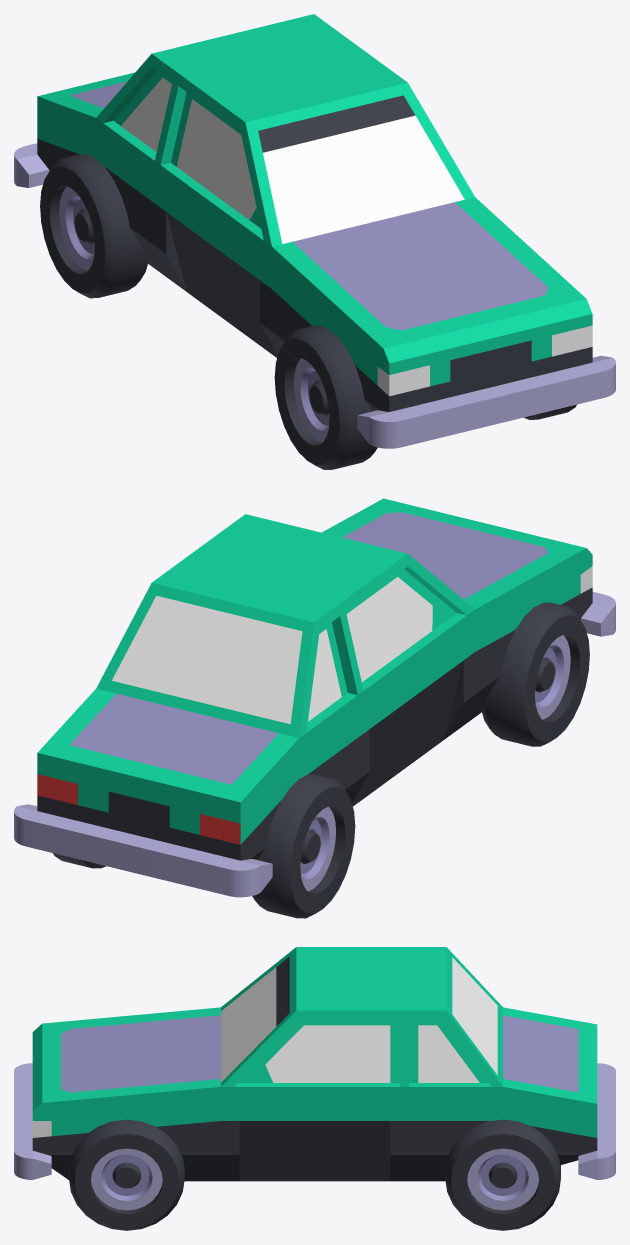
Rendered from greencar.fbx.
3 renders of one model, top to bottom at view 1: azimuth 30°, elevation 25°; view 2: azimuth 150°, elevation 25°; view 3: azimuth 270°, elevation 25°, orthographic. The views are drawn at different scales.
Parts seen in each view (by area): view 1: body_frontStandard, body_topStandard, wheel_standard (×2), body_edge, bumper (×2), body_backStandard, body_topBackStandard; view 2: body_backStandard, body_topBackStandard, wheel_standard (×2), body_topStandard, body_frontStandard, body_edge, bumper (×2); view 3: body_frontStandard, body_topStandard, wheel_standard (×2), body_edge, body_backStandard, body_topBackStandard, bumper (×2).
Boxes of the visible parts, x1=… form: body_frontStandard: x1=272, y1=197, x2=592, y2=411; body_topStandard: x1=155, y1=31, x2=474, y2=246; wheel_standard (×2): x1=40, y1=154, x2=377, y2=469; body_edge: x1=154, y1=161, x2=280, y2=357; bumper (×2): x1=14, y1=143, x2=615, y2=448; body_backStandard: x1=37, y1=72, x2=174, y2=282; body_topBackStandard: x1=96, y1=14, x2=337, y2=151; body_backStandard: x1=37, y1=688, x2=357, y2=860; body_topBackStandard: x1=96, y1=565, x2=347, y2=737; wheel_standard (×2): x1=252, y1=602, x2=589, y2=918; body_topStandard: x1=175, y1=514, x2=474, y2=695; body_frontStandard: x1=322, y1=498, x2=592, y2=731; body_edge: x1=349, y1=609, x2=475, y2=806; bumper (×2): x1=14, y1=592, x2=615, y2=897; body_frontStandard: x1=32, y1=1007, x2=220, y2=1181; body_topStandard: x1=221, y1=947, x2=408, y2=1086; wheel_standard (×2): x1=69, y1=1119, x2=560, y2=1230; body_edge: x1=221, y1=1083, x2=408, y2=1181; body_backStandard: x1=409, y1=1007, x2=597, y2=1181; body_topBackStandard: x1=409, y1=947, x2=502, y2=1086; bumper (×2): x1=14, y1=1063, x2=615, y2=1179.
Size of the model in its own units: 12.33 by 12.08 by 32.
